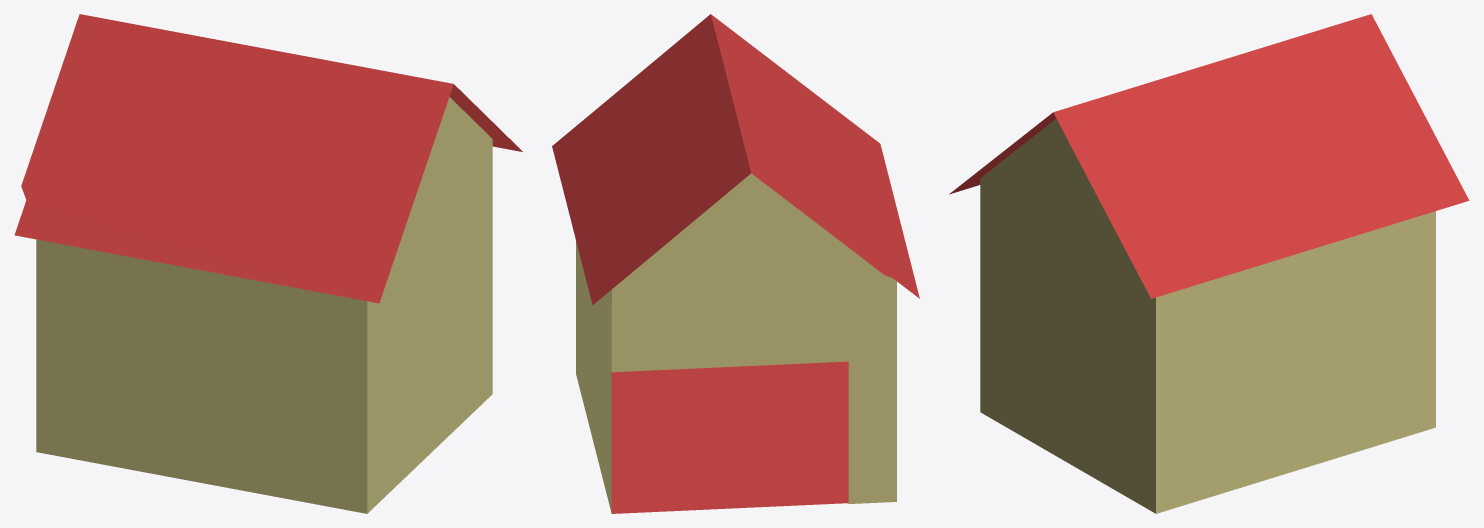
3 views of the same model, side by side, from view 1: azimuth 30°, elevation 25°; view 2: azimuth 150°, elevation 25°; view 3: azimuth 270°, elevation 25° (orthographic). The views are drawn at different scales.
Size of the model in its own units: 16.66 by 17.22 by 13.07.
